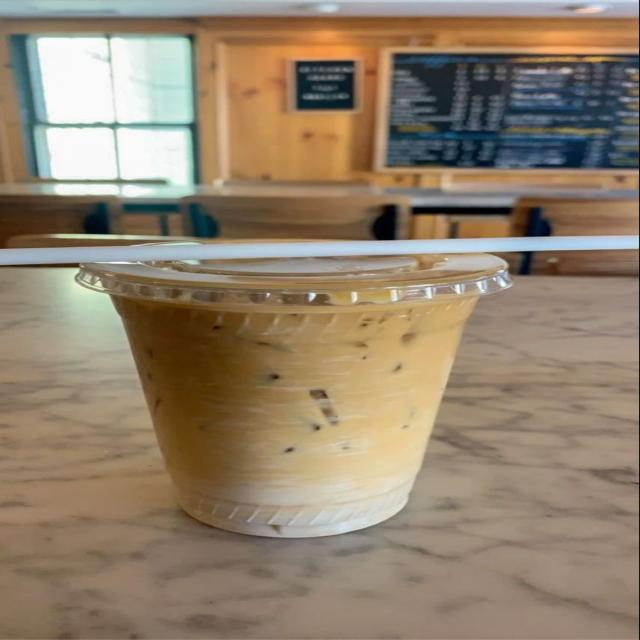plastic cup: (73, 240, 514, 540)
